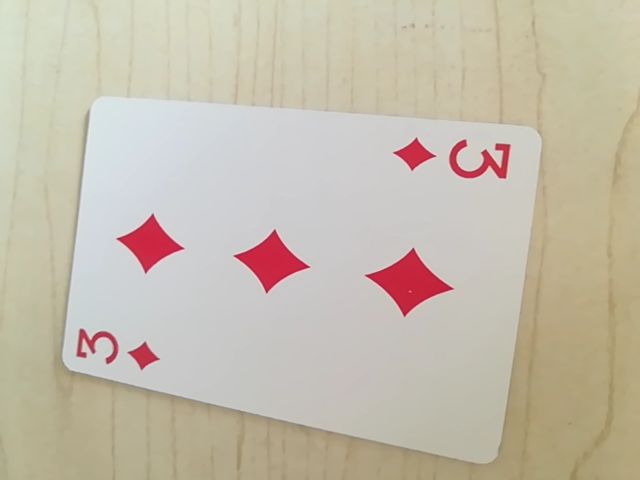fk 3: (391, 131, 516, 185), (72, 319, 168, 376)
